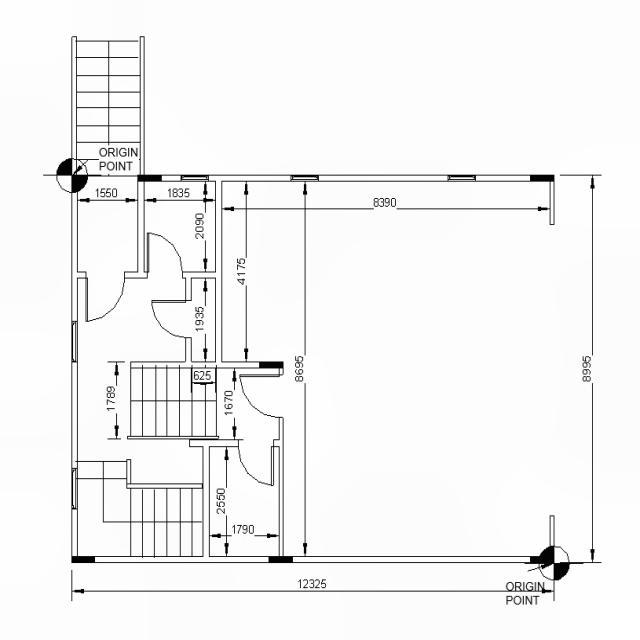Column: (137, 174, 162, 182), (530, 174, 555, 182), (530, 556, 554, 564), (268, 556, 294, 563), (71, 556, 95, 563), (259, 362, 284, 368), (72, 175, 78, 193), (550, 546, 554, 556)
Door: (238, 368, 284, 418), (238, 439, 280, 487), (85, 272, 125, 322), (144, 232, 184, 279), (152, 300, 192, 338)
Staircase: (78, 447, 202, 556), (77, 36, 140, 175), (131, 362, 233, 436)
Window: (71, 320, 78, 362), (71, 468, 78, 510), (180, 174, 210, 182), (290, 174, 319, 182), (448, 174, 476, 182)
